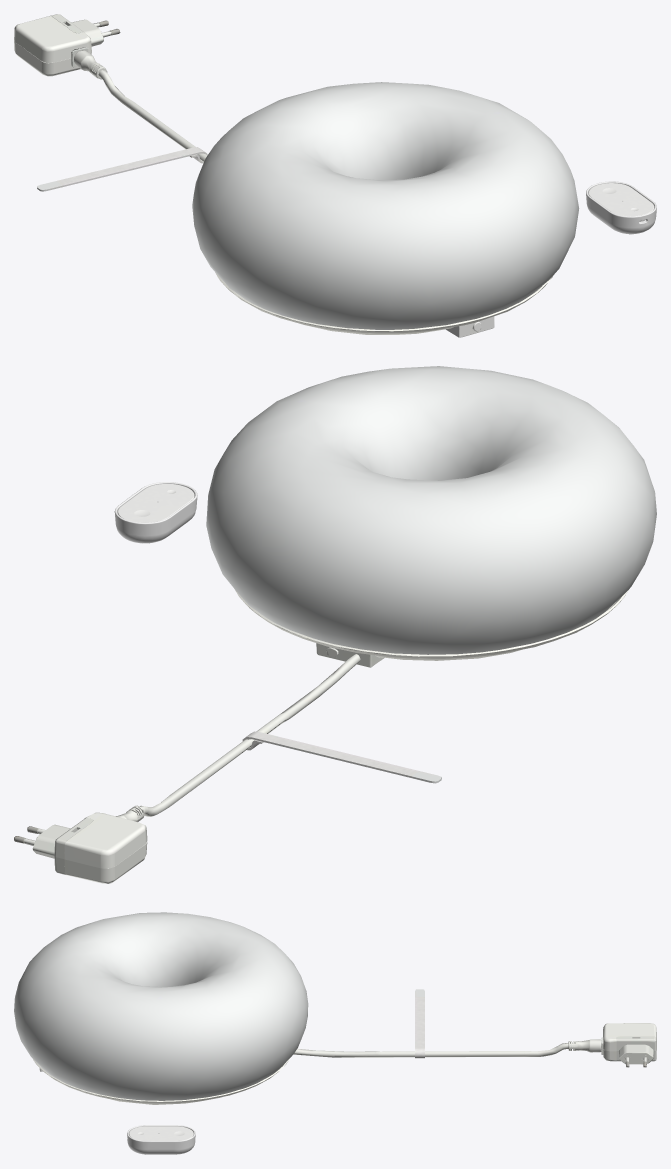
The model's file is varmblixt_lampa_led_stoowa_scienna_70612940.glb.
3 views of the same model, one above another, from view 1: azimuth 30°, elevation 25°; view 2: azimuth 150°, elevation 25°; view 3: azimuth 270°, elevation 25° (orthographic). The views are drawn at different scales.
Parts seen in each view (by area): view 1: varmblixt_lampa_led_stoowa_scienna_70612940; view 2: varmblixt_lampa_led_stoowa_scienna_70612940; view 3: varmblixt_lampa_led_stoowa_scienna_70612940.
Part boxes in pixels (x1,y1,x2,y2): varmblixt_lampa_led_stoowa_scienna_70612940: (14, 14, 656, 337); varmblixt_lampa_led_stoowa_scienna_70612940: (14, 366, 656, 883); varmblixt_lampa_led_stoowa_scienna_70612940: (14, 912, 656, 1154).
Size of the model in its own units: 0.3913 by 0.1228 by 0.6566.
4 materials, 4 textured.
